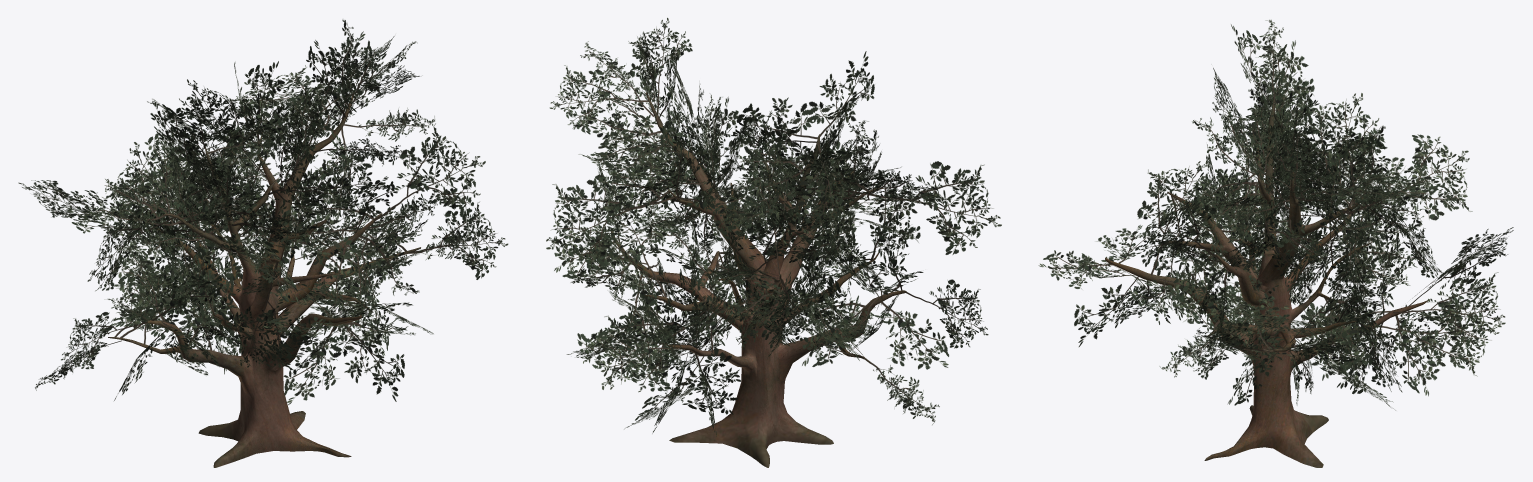
Rendered from oak.glb.
3 views of the same model, side by side, from view 1: azimuth 30°, elevation 25°; view 2: azimuth 150°, elevation 25°; view 3: azimuth 270°, elevation 25° (orthographic). The views are drawn at different scales.
Visible parts, largest first — view 1: oak; view 2: oak; view 3: oak.
Part boxes in pixels (x1=…): oak: x1=18, y1=19, x2=508, y2=467; oak: x1=546, y1=17, x2=1001, y2=467; oak: x1=1038, y1=20, x2=1513, y2=467.
Bounding box in the file's own units: 6.53 × 5.8 × 6.65.
Materials: 2 (2 with a texture image).
